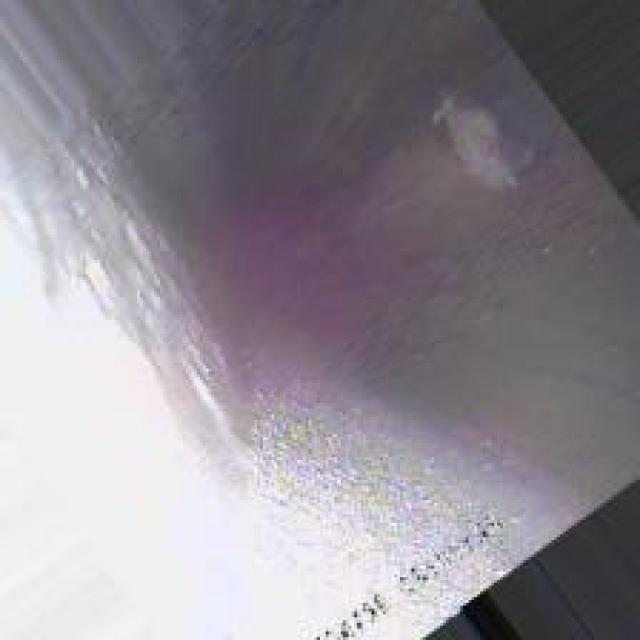ferrule: (428, 86, 546, 194)
